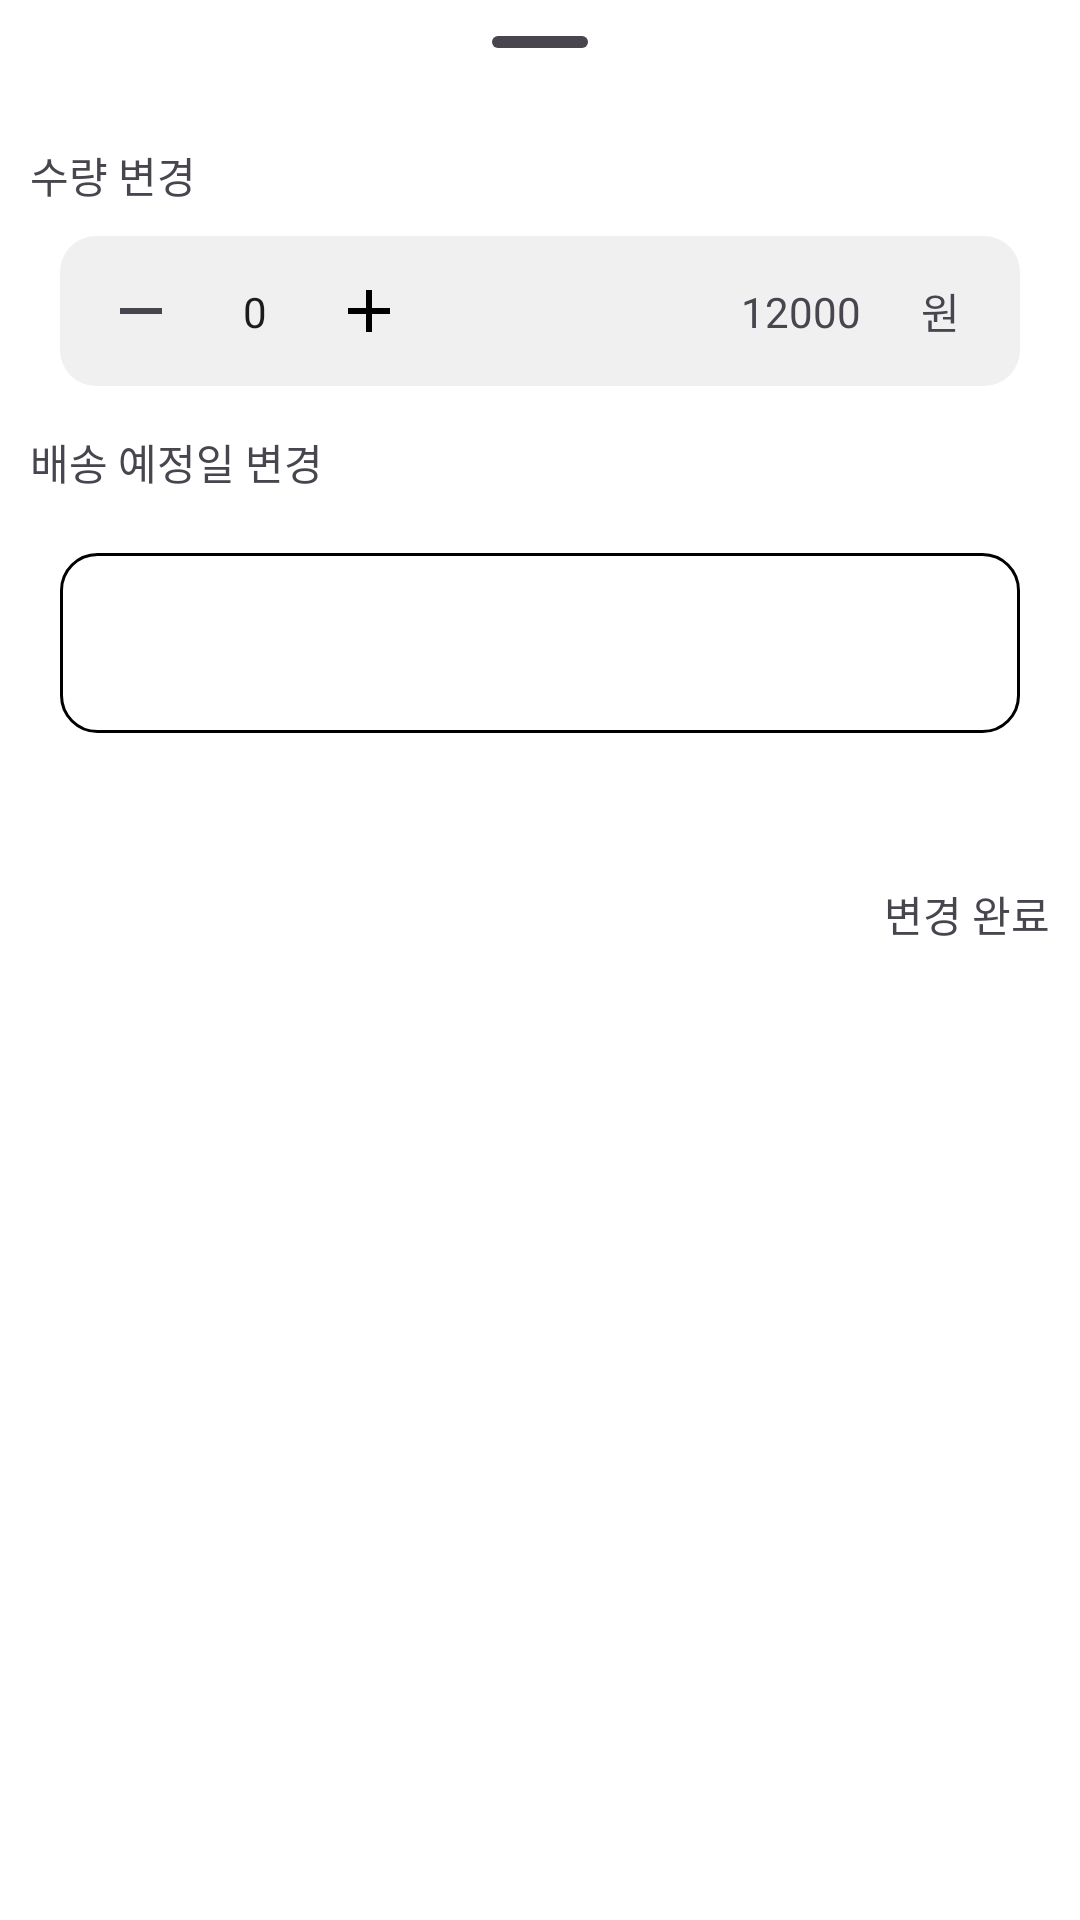

Point at icon controls on the screen. Image size 1080*1920, points as (x,y).
+버튼을 누르면 값이 증가: (369,311)
